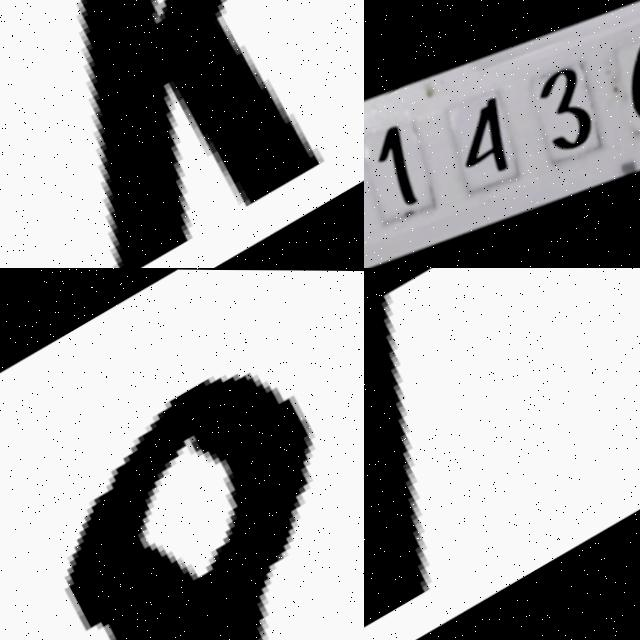1: (364, 103, 461, 228)
3: (508, 47, 628, 167)
4: (427, 77, 546, 196)
6: (592, 18, 640, 138)
K: (0, 0, 364, 268)
T: (364, 268, 640, 640)
